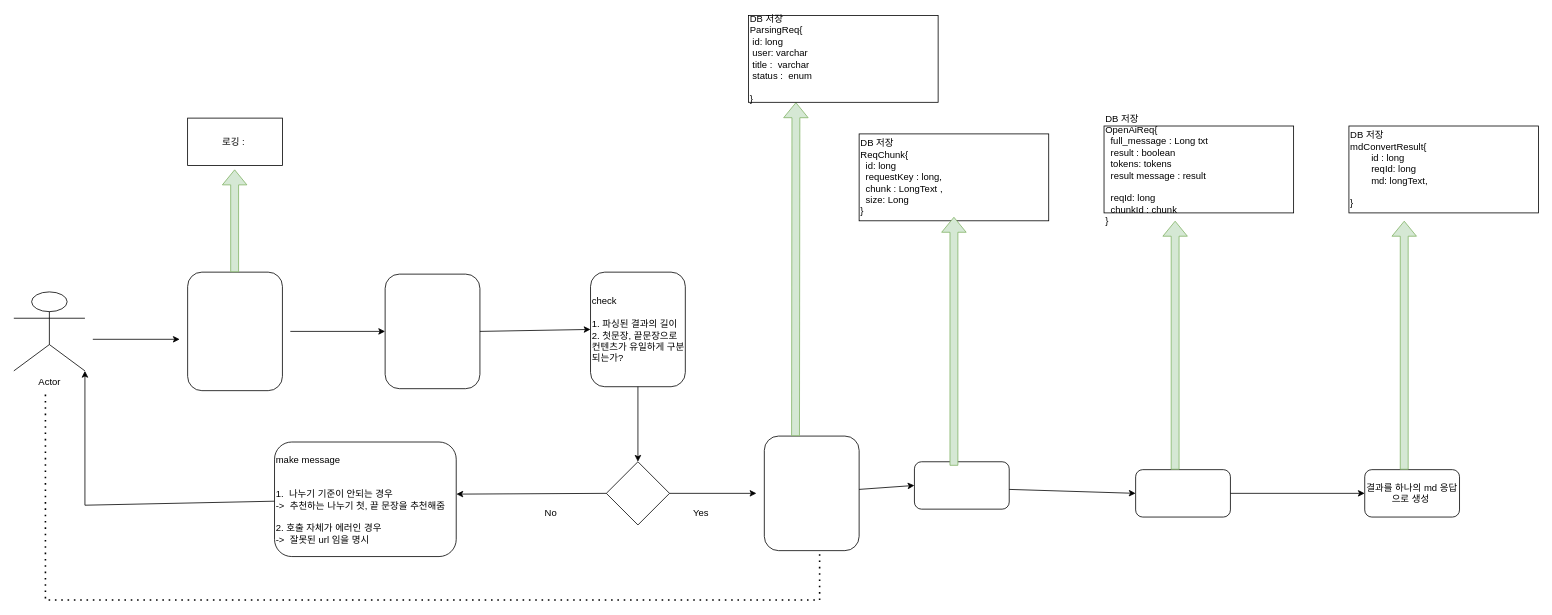
The diagram is 1552 pixels wide and 615 high, and some of its shapes have lost their labels. Here are the shapes that lost their labels. From the top down, the centre of each, then its label:
At point 234,331: "1.url 2. 제목 3. 첫 문장 4. 끝 문장 입력".
At point 432,331: "1. url 호출 2. html 파싱".
At point 811,493: "완료 메세지 전송 메세지 스팩 - key - 제목 - STATUS : WAIT".
At point 961,485: "parsing 문자열 chunk 단위로 분해".
At point 1182,493: "분해된 chunk 를 인자로 open ai 호출- > md 형식으로".
